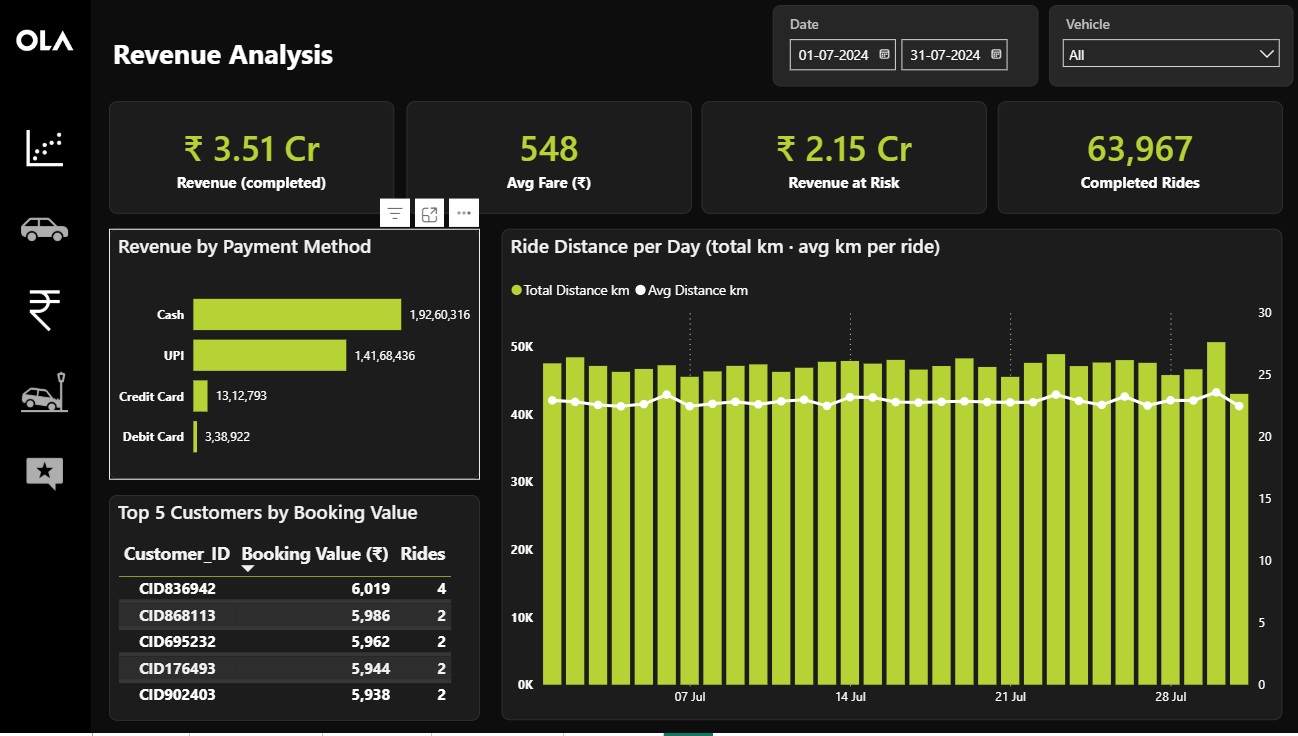

The page's visual inventory and layout, read from the dashboard file:
{"tool":"powerbi","page":{"name":"Revenue","canvas":[1280,720],"ordinal":2},"visuals":[{"type":"group","id":"g1","title":"Group 1","box":[0,0,90,720],"z":0},{"type":"shape","box":[0,0,90,720],"z":0,"group":"g1"},{"type":"slicer","fields":{"Values":["ola_rides.Ride_Date"]},"box":[759.6,5.1,260.4,80],"z":1000},{"type":"image","box":[10,25,70,30],"z":1000,"group":"g1"},{"type":"slicer","fields":{"Values":["ola_rides.Vehicle_Type"]},"box":[1030.3,5.1,240,80],"z":1001},{"type":"textbox","box":[100,30,600,45],"z":1002},{"type":"cardVisual","fields":{"Data":["_Measures.Revenue Cr"]},"box":[108.5,99.6,280,110],"z":1003},{"type":"cardVisual","fields":{"Data":["_Measures.Avg Fare"]},"box":[399.6,99.6,280,110],"z":1004},{"type":"cardVisual","fields":{"Data":["_Measures.Revenue at Risk Cr"]},"box":[689.4,99.6,280,110],"z":1005},{"type":"cardVisual","fields":{"Data":["_Measures.Completed Rides Label"]},"box":[980.5,99.6,280,110],"z":1006},{"type":"clusteredBarChart","title":"Revenue by Payment Method","fields":{"Category":["ola_rides.Payment_Method"],"Y":["_Measures.Revenue"]},"box":[108.6,225.1,364,245.8],"z":1007},{"type":"tableEx","title":"Top 5 Customers by Booking Value","fields":{"Values":["ola_rides.Customer_ID","_Measures.Revenue","_Measures.Completed Rides"]},"box":[108.6,485.3,364,221.9],"z":1008},{"type":"lineClusteredColumnComboChart","title":"Ride Distance per Day (total km · avg km per ride)","fields":{"Category":["ola_rides.Ride_Date"],"Y":["_Measures.Total Distance km"],"Y2":["_Measures.Avg Distance km"]},"box":[493.3,225.1,766.3,482.1],"z":1009},{"type":"image","box":[20,120,50,50],"z":2000,"group":"g1"},{"type":"image","box":[20,200,50,50],"z":3000,"group":"g1"},{"type":"image","box":[20,280,50,50],"z":4000,"group":"g1"},{"type":"image","box":[20,360,50,50],"z":5000,"group":"g1"},{"type":"image","box":[20,440,50,50],"z":6000,"group":"g1"}]}

Visuals, with their boxes on the page's 1280x720 design canvas (x1, y1, x2, y2). These are canvas units, not pixel positions in the 1298x736 screenshot, which may show the page scaled, cropped or inside an application window:
"Group 1" group: 0,0,90,720
shape: 0,0,90,720
slicer - ola_rides.Ride_Date: 760,5,1020,85
image: 10,25,80,55
slicer - ola_rides.Vehicle_Type: 1030,5,1270,85
textbox: 100,30,700,75
cardVisual - _Measures.Revenue Cr: 108,100,388,210
cardVisual - _Measures.Avg Fare: 400,100,680,210
cardVisual - _Measures.Revenue at Risk Cr: 689,100,969,210
cardVisual - _Measures.Completed Rides Label: 980,100,1260,210
"Revenue by Payment Method" clusteredBarChart: 109,225,473,471
"Top 5 Customers by Booking Value" tableEx: 109,485,473,707
"Ride Distance per Day (total km · avg km per ride)" lineClusteredColumnComboChart: 493,225,1260,707
image: 20,120,70,170
image: 20,200,70,250
image: 20,280,70,330
image: 20,360,70,410
image: 20,440,70,490
